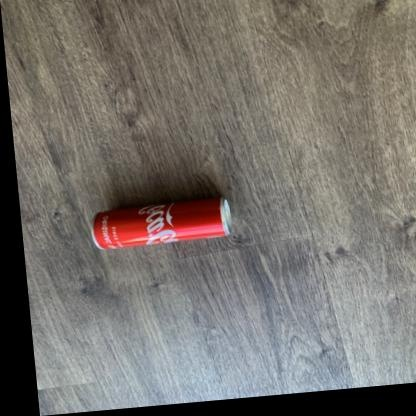trash: (92, 197, 230, 248)
